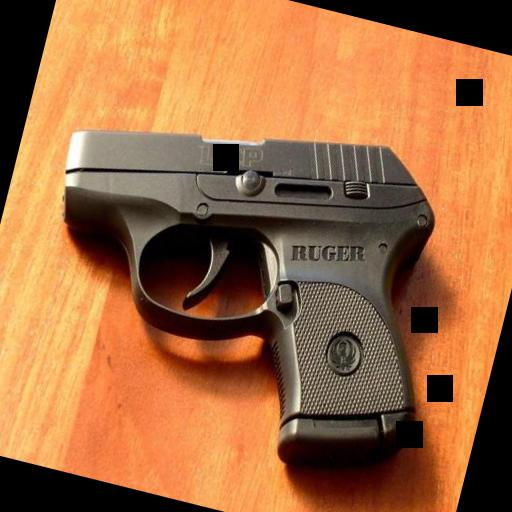Handgun: (2, 70, 488, 496)
